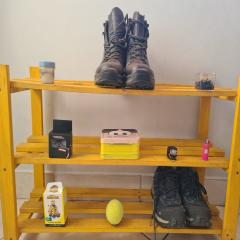bola: (106, 199, 124, 226)
bota1: (94, 6, 156, 90)
bota2: (151, 165, 213, 232)
cx-bike: (46, 118, 74, 161)
cx-magali: (99, 127, 141, 161)
cx-minions: (42, 181, 68, 228)
cx-xuxa: (194, 70, 216, 92)
isqueiro: (202, 138, 210, 162)
luz: (166, 146, 178, 162)
pote: (38, 60, 57, 85)
